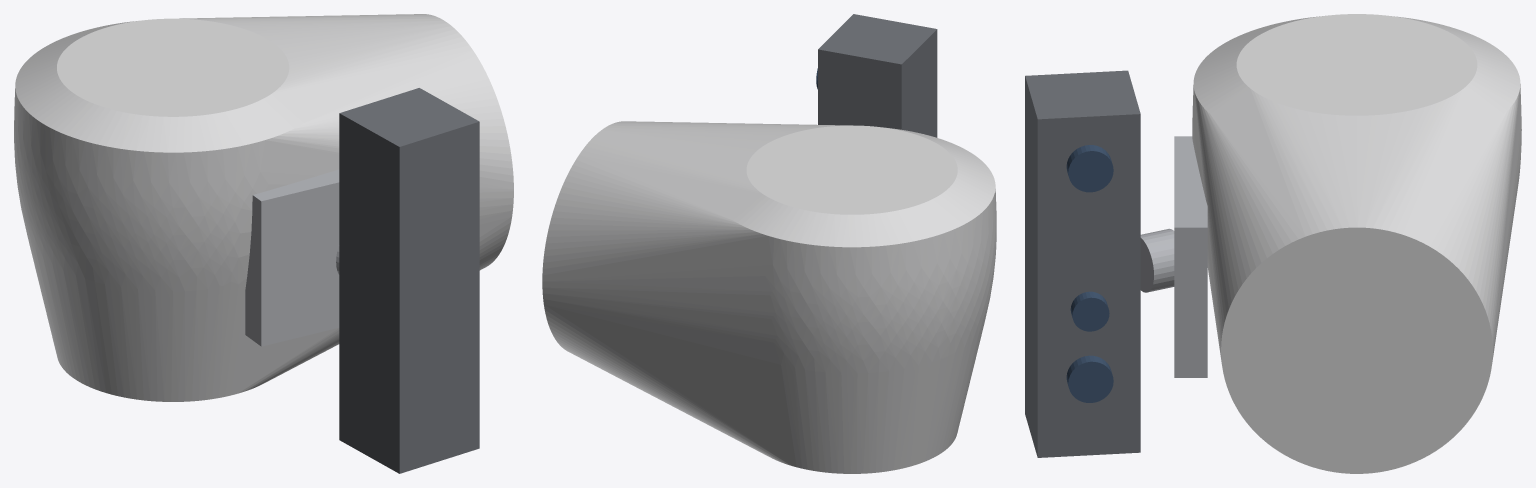
3 renders of one model, left to right at view 1: azimuth 30°, elevation 25°; view 2: azimuth 150°, elevation 25°; view 3: azimuth 270°, elevation 25°, orthographic. The views are drawn at different scales.
Size of the model in its own units: 0.119 by 0.09 by 0.1196.
